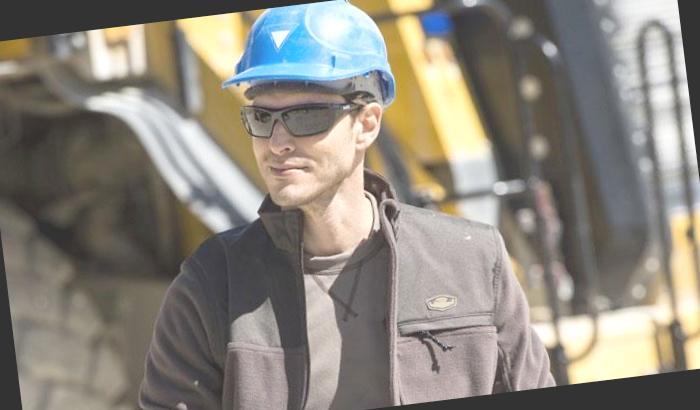helmet: (211, 0, 404, 122)
no_vest: (190, 171, 520, 410)
person: (167, 0, 504, 410)
